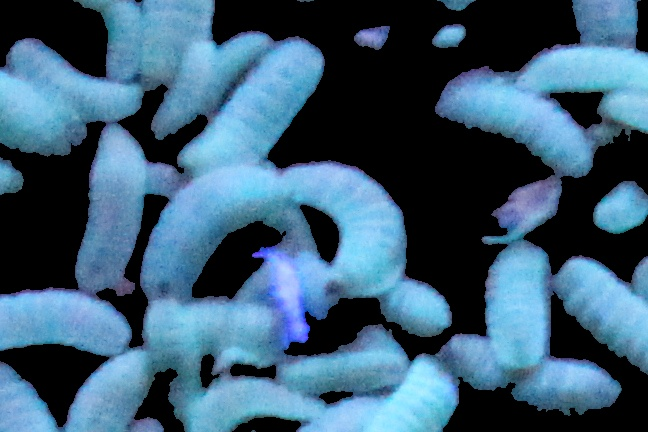larvae: (177, 39, 323, 164), (144, 159, 276, 293), (436, 71, 591, 184), (271, 164, 397, 290), (436, 333, 623, 415), (152, 33, 277, 138), (7, 38, 141, 125), (553, 253, 648, 372), (75, 127, 144, 290), (479, 241, 551, 376), (1, 285, 133, 356), (60, 344, 154, 432), (137, 303, 203, 415), (370, 359, 468, 432), (516, 39, 648, 93), (180, 382, 317, 432), (276, 339, 407, 389), (1, 69, 78, 154), (189, 298, 294, 360), (72, 1, 140, 81), (141, 1, 196, 90), (377, 272, 452, 332), (1, 361, 62, 432)
